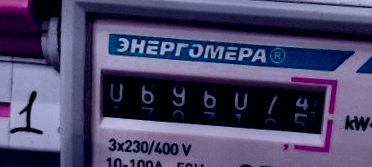0: (105, 76, 125, 103), (231, 84, 249, 112)
4: (293, 89, 309, 111)
5: (291, 111, 307, 131)
6: (136, 78, 156, 104), (200, 82, 218, 110)
7: (262, 88, 280, 116)
9: (168, 81, 187, 108)
screen: (88, 55, 340, 154)
